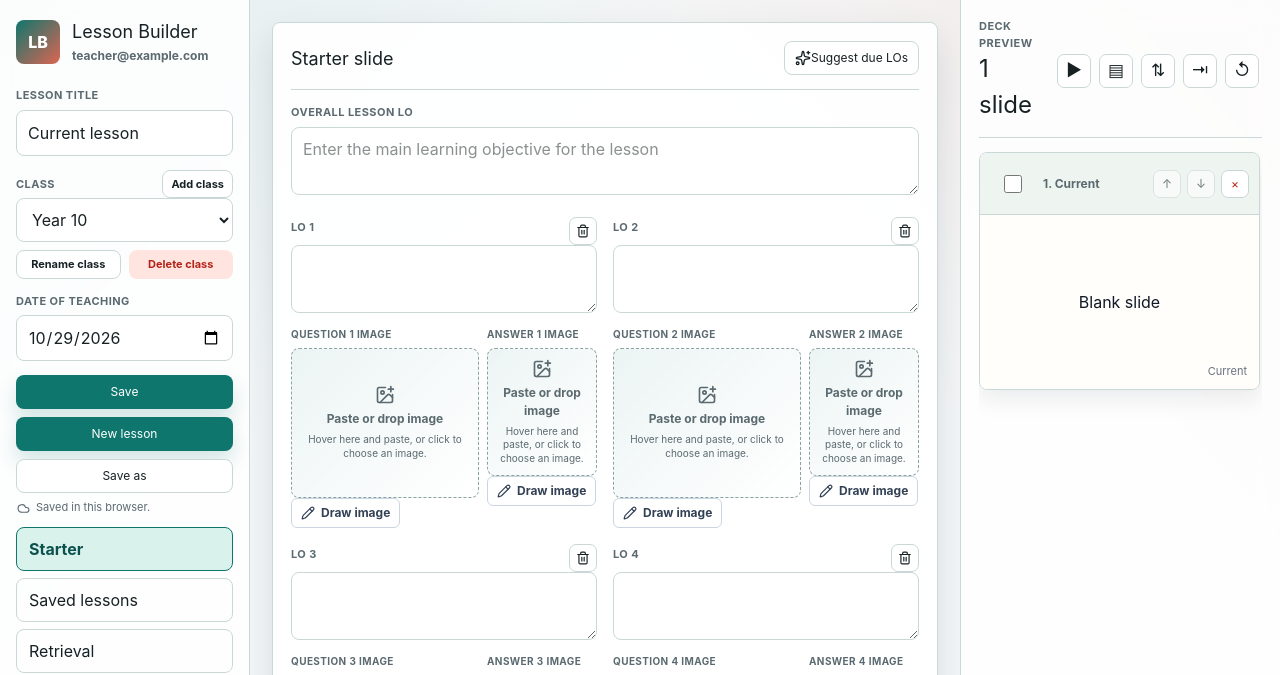
it: BuilderShell legacy UI parity › requires new-lesson metadata and derives the saved name and overall LO
The image size is (1280, 675).
Click the button "New lesson".
click(124, 434)  # box 16,417 -> 233,451
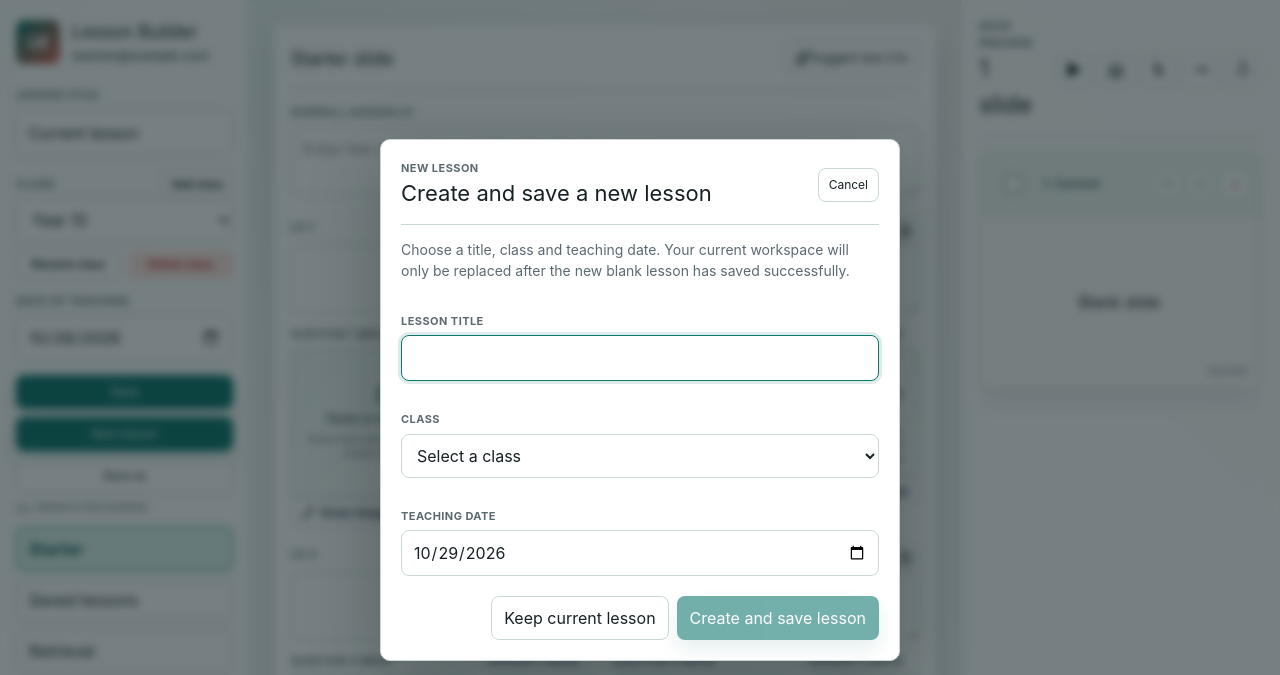
Expected: the button "Create and save lesson" is disabled, 677,596 -> 879,640
Type "Language   of   probability" into the field labelled "Lesson title".
click(640, 358); type("Language   of   probability")  # box 401,335 -> 879,381
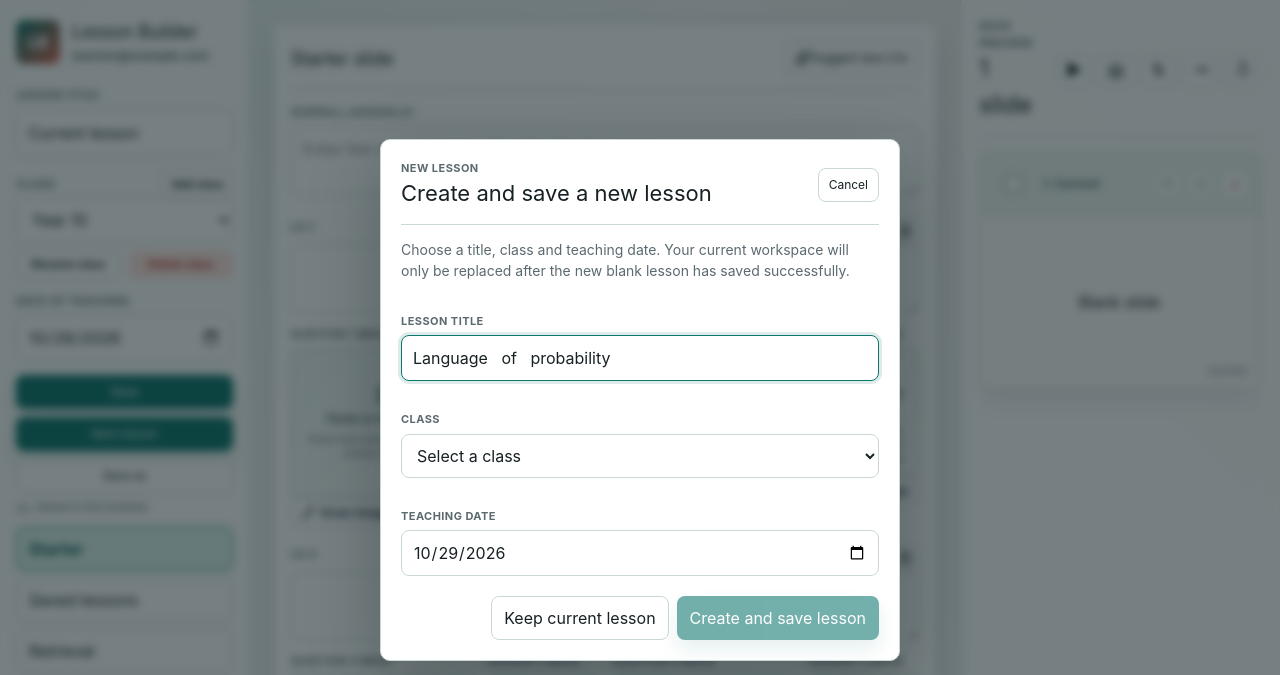
Expected: the button "Create and save lesson" is disabled, 677,596 -> 879,640
Select "7Ma3" in the dropdown labelled "Class" at (640, 456), box 401,434 -> 879,478
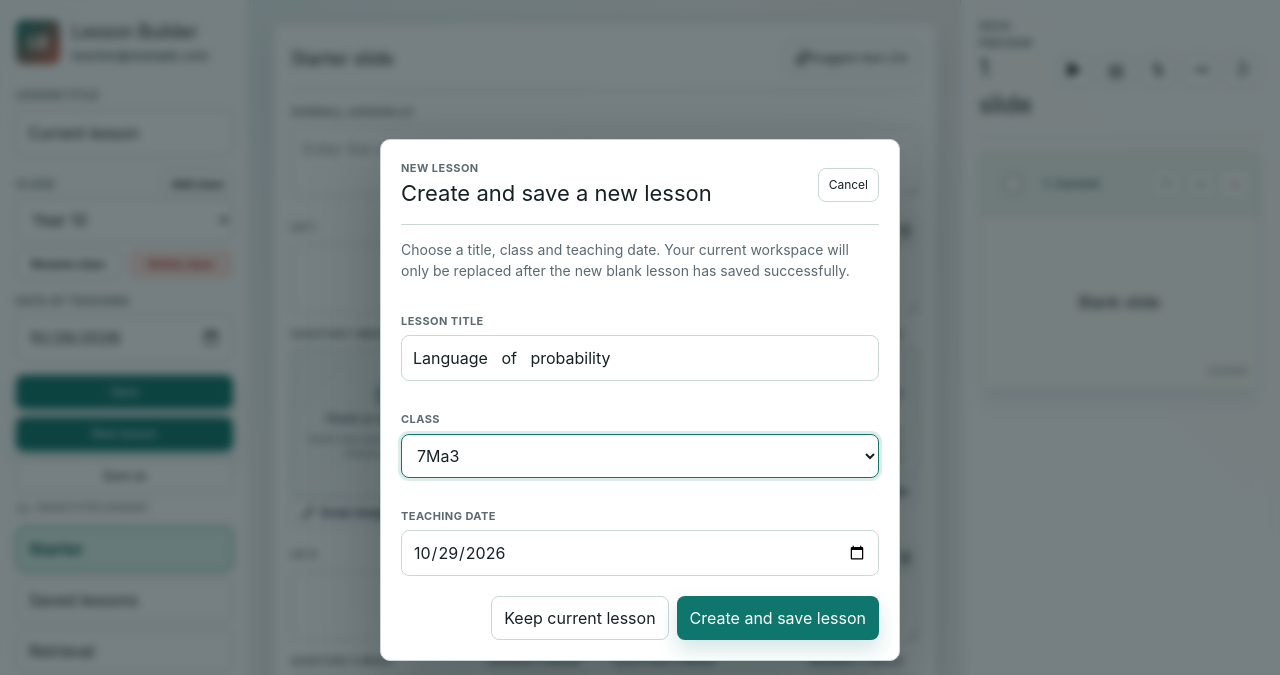
Type "2026-09-26" into the date field labelled "Teaching date".
click(640, 553); type("2026-09-26")  # box 401,530 -> 879,576
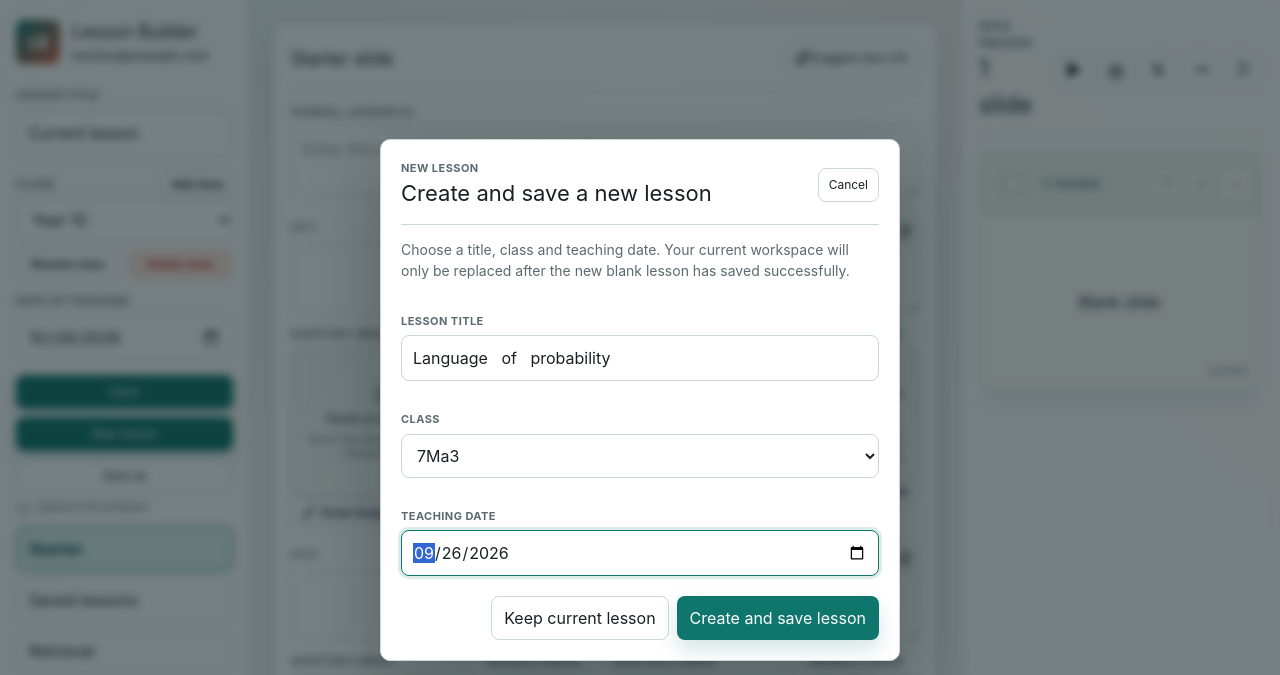
Click the button "Create and save lesson".
click(778, 618)  # box 677,596 -> 879,640
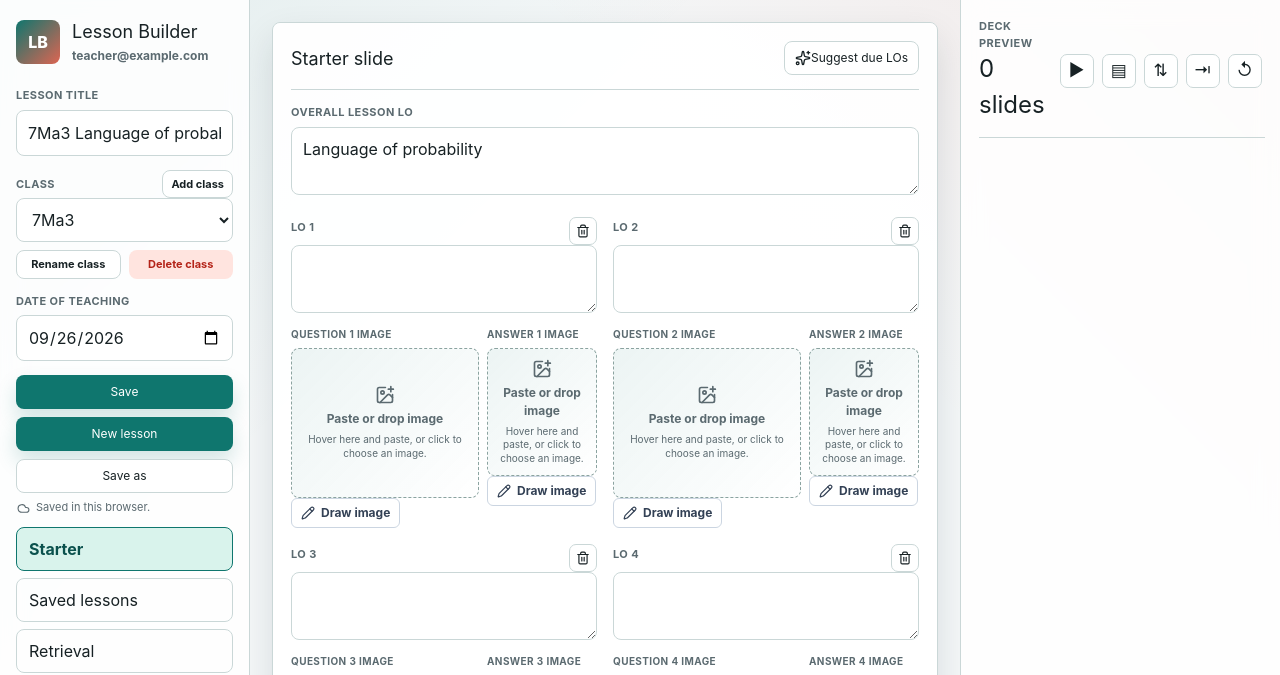
Expected: the heading "Create and save a new lesson" is gone
